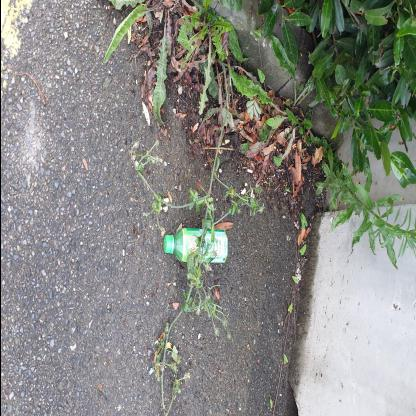plastik: (163, 228, 227, 263)
